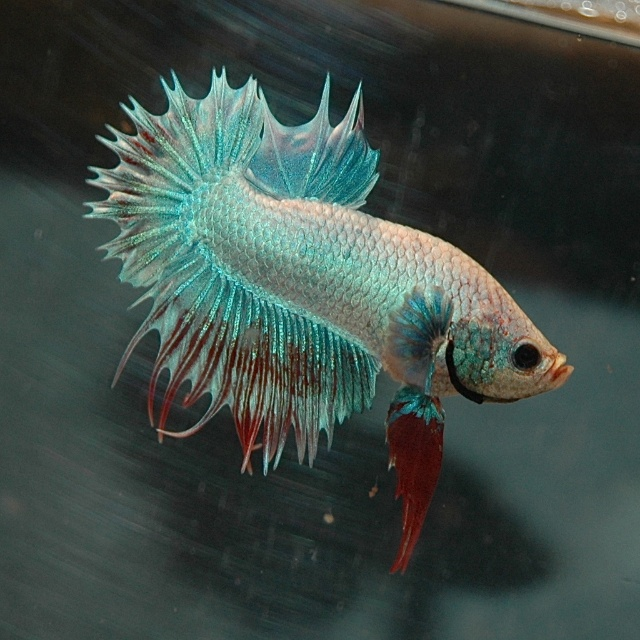Fish: (82, 64, 575, 573)
